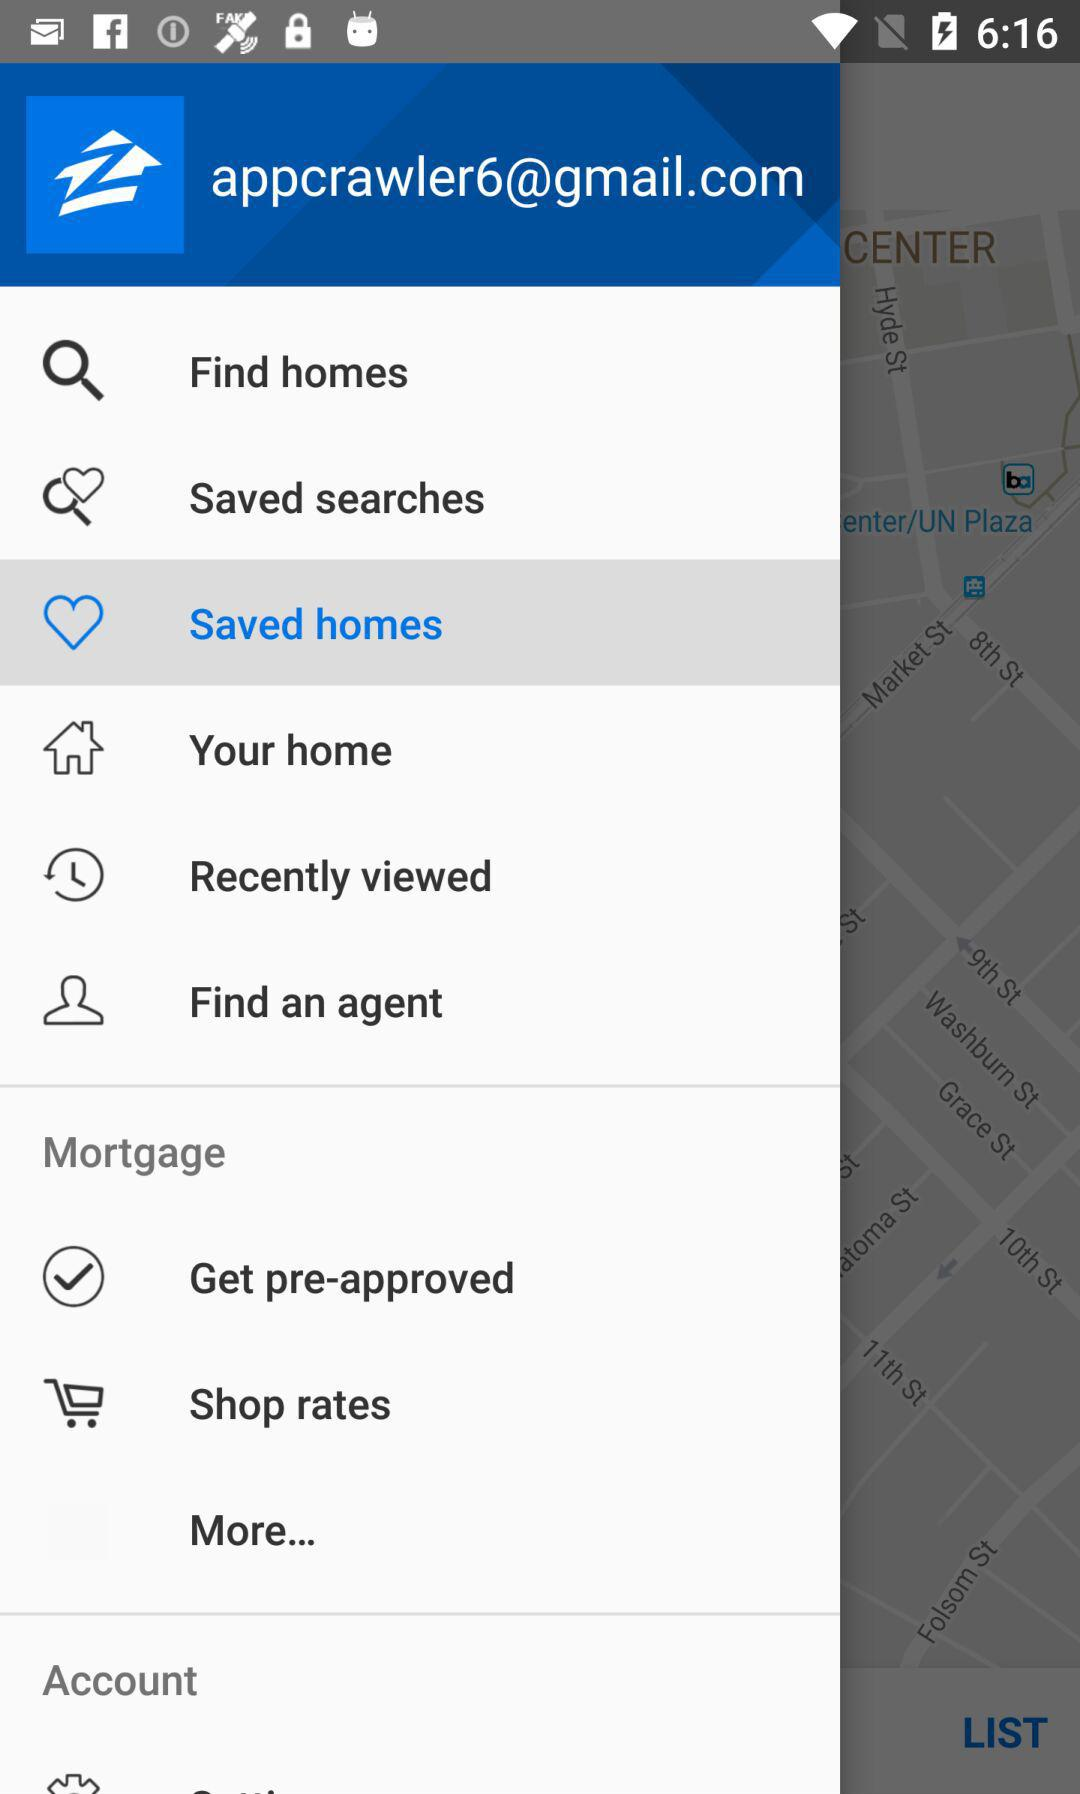CheckedTextView: (44, 1246, 514, 1308)
Drawer: (1, 64, 840, 1794)
Icon: (42, 340, 106, 402), (42, 466, 106, 528), (44, 595, 105, 652), (44, 720, 106, 777), (44, 847, 105, 903), (44, 974, 106, 1026), (44, 1378, 106, 1430)
Image: (26, 96, 186, 255)
Text: (211, 152, 805, 210), (190, 1260, 514, 1304), (191, 859, 492, 902), (191, 984, 445, 1028), (190, 481, 486, 516), (190, 606, 443, 642), (190, 1387, 392, 1429), (191, 354, 409, 390), (45, 1137, 227, 1178), (188, 732, 395, 768), (42, 1665, 199, 1697), (192, 1513, 316, 1547)
UpperTaskBar: (1, 1, 1080, 64)
